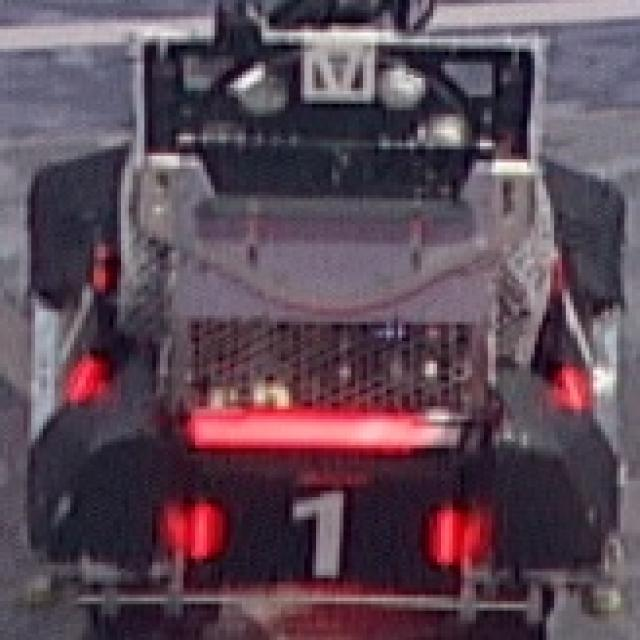R1: (188, 488, 460, 578)
